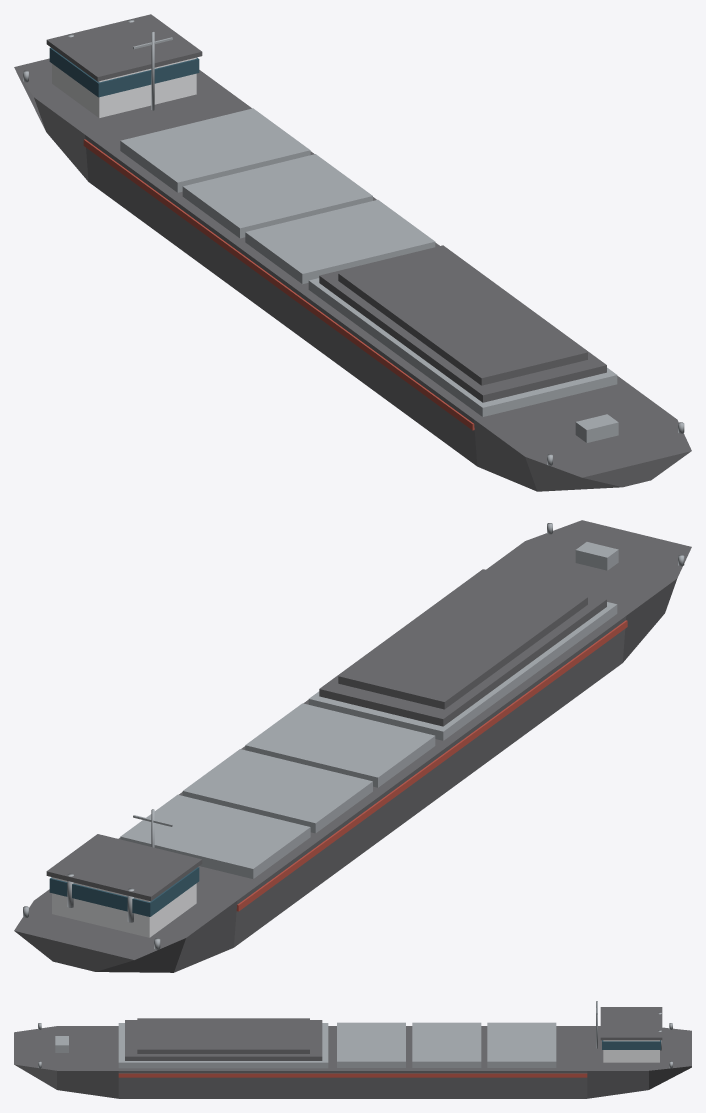
Rendered from barge.glb.
3 renders of one model, top to bottom at view 1: azimuth 30°, elevation 25°; view 2: azimuth 150°, elevation 25°; view 3: azimuth 270°, elevation 25°, orthographic. The views are drawn at different scales.
Visible parts, largest first — view 1: Merged_RoofDark, Merged_PropsMetal, barge_stripe0315, barge_wheelhouse0315, barge_wh_glass0315; view 2: Merged_RoofDark, Merged_PropsMetal, barge_stripe0315, barge_wheelhouse0315, barge_wh_glass0315; view 3: Merged_RoofDark, Merged_PropsMetal, barge_stripe0315, barge_wheelhouse0315, barge_wh_glass0315.
Boxes of the visible parts, <box> form: Merged_RoofDark: <box>14,14,691,491</box>; Merged_PropsMetal: <box>23,19,684,465</box>; barge_stripe0315: <box>83,139,474,430</box>; barge_wheelhouse0315: <box>52,57,196,118</box>; barge_wh_glass0315: <box>49,47,199,97</box>; Merged_RoofDark: <box>14,520,691,972</box>; Merged_PropsMetal: <box>23,523,684,949</box>; barge_stripe0315: <box>236,620,627,911</box>; barge_wheelhouse0315: <box>52,877,196,937</box>; barge_wh_glass0315: <box>49,867,199,916</box>; Merged_RoofDark: <box>14,1007,691,1098</box>; Merged_PropsMetal: <box>38,1001,672,1068</box>; barge_stripe0315: <box>118,1073,587,1077</box>; barge_wheelhouse0315: <box>603,1040,659,1062</box>; barge_wh_glass0315: <box>602,1040,660,1049</box>.
Size of the model in its own units: 8.74 by 6.8 by 55.
